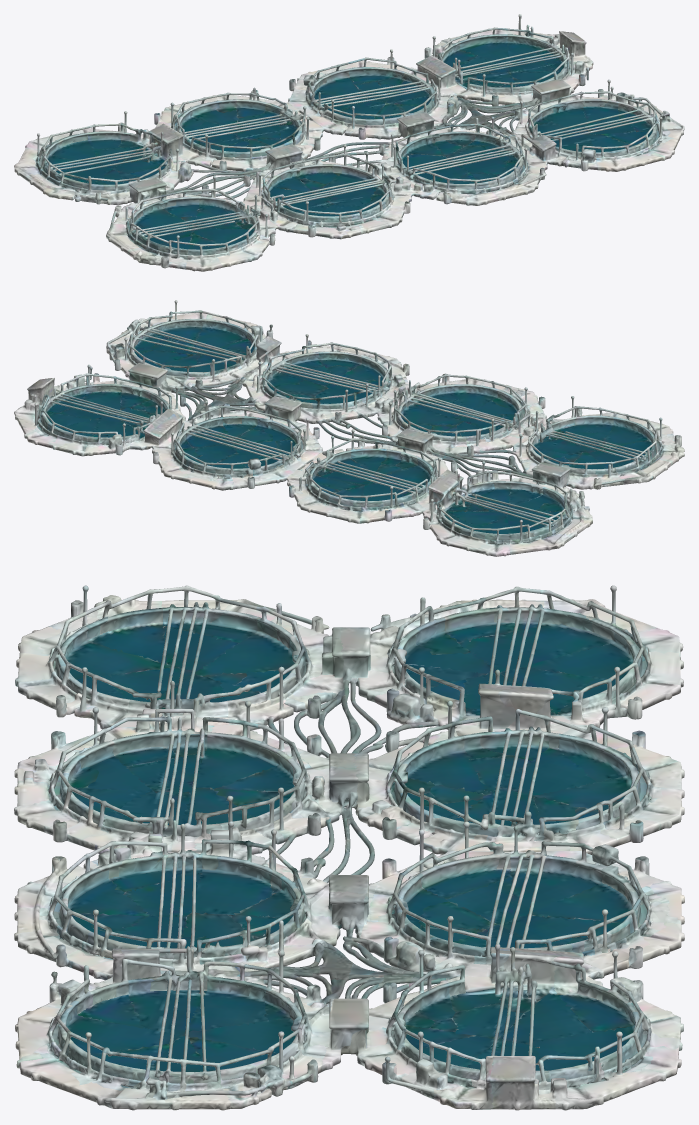
Rendered from sample-fishfarm.glb.
3 renders of one model, top to bottom at view 1: azimuth 30°, elevation 25°; view 2: azimuth 150°, elevation 25°; view 3: azimuth 270°, elevation 25°, orthographic. The views are drawn at different scales.
Parts seen in each view (by area): view 1: mesh_node; view 2: mesh_node; view 3: mesh_node.
Boxes of the visible parts, <box> form: mesh_node: <box>14,14,684,271</box>; mesh_node: <box>14,300,684,556</box>; mesh_node: <box>14,585,684,1110</box>.
Size of the model in its own units: 1.9 by 0.0917 by 1.07.
1 material, 1 textured.
